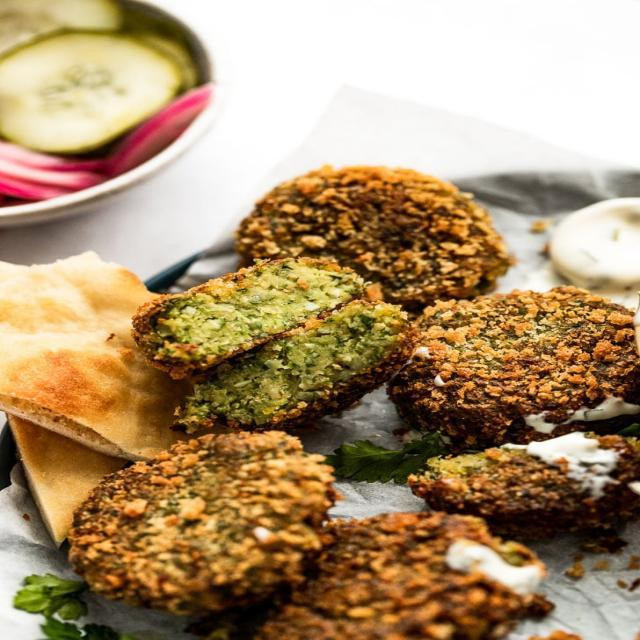flafel: (65, 431, 337, 600), (134, 264, 391, 425), (403, 289, 640, 435), (401, 433, 640, 525)
